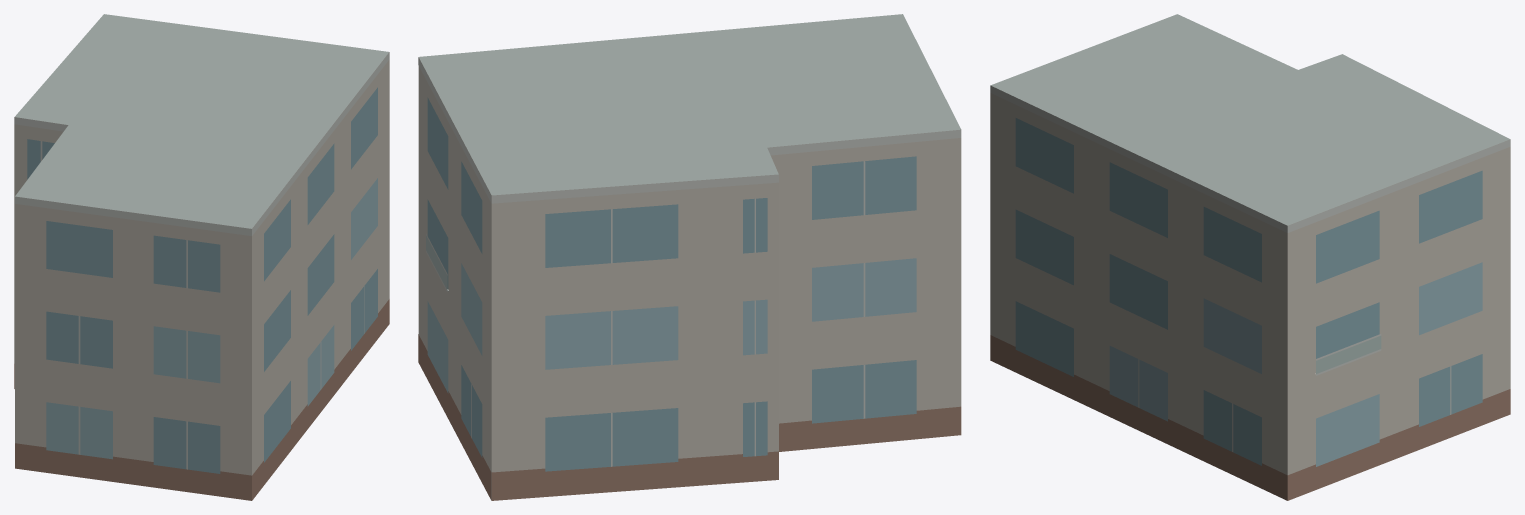
The model's file is survey-upis-32827646.glb.
3 renders of one model, left to right at view 1: azimuth 30°, elevation 25°; view 2: azimuth 150°, elevation 25°; view 3: azimuth 270°, elevation 25°, orthographic. The views are drawn at different scales.
Parts seen in each view (by area): view 1: survey-upis-32827646.tmp; view 2: survey-upis-32827646.tmp; view 3: survey-upis-32827646.tmp.
Boxes of the visible parts, x1=… form: survey-upis-32827646.tmp: x1=14, y1=14, x2=389, y2=500; survey-upis-32827646.tmp: x1=418, y1=14, x2=961, y2=500; survey-upis-32827646.tmp: x1=990, y1=14, x2=1510, y2=500.
Size of the model in its own units: 15.03 by 9.1 by 15.6.
